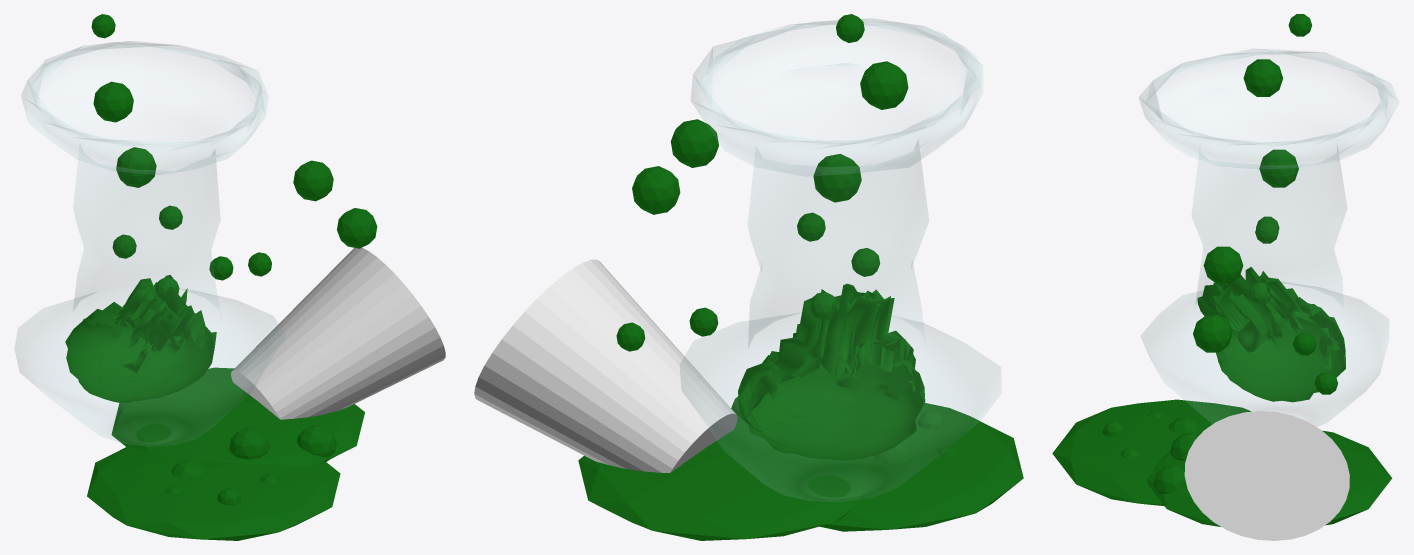
File: potiunepalariestricata.fbx
3 renders of one model, left to right at view 1: azimuth 30°, elevation 25°; view 2: azimuth 150°, elevation 25°; view 3: azimuth 270°, elevation 25°, orthographic. The views are drawn at different scales.
Visible parts, largest first — view 1: Plane.001, Cylinder.002, Icosphere.001, Icosphere, Sphere.003, Icosphere.005, Icosphere.016, Icosphere.009, Icosphere.014, Icosphere.010, Icosphere.017; view 2: Plane.001, Cylinder.002, Sphere.003, Icosphere, Icosphere.001, Icosphere.014, Icosphere.005, Icosphere.009, Icosphere.016, Icosphere.019, Icosphere.002, Icosphere.018 (+2 smaller); view 3: Plane.001, Cylinder.002, Sphere.003, Icosphere.001, Icosphere, Icosphere.005, Icosphere.016, Icosphere.014, Icosphere.009, Icosphere.017, Icosphere.010, Icosphere.008 (+3 smaller).
Boxes of the visible parts, bbox=[...] form: Plane.001: bbox=[15, 41, 285, 445]; Cylinder.002: bbox=[231, 247, 445, 419]; Icosphere.001: bbox=[87, 447, 340, 540]; Icosphere: bbox=[111, 367, 364, 466]; Sphere.003: bbox=[65, 275, 216, 402]; Icosphere.005: bbox=[116, 147, 156, 187]; Icosphere.016: bbox=[293, 160, 333, 201]; Icosphere.009: bbox=[93, 81, 133, 122]; Icosphere.014: bbox=[337, 208, 377, 248]; Icosphere.010: bbox=[229, 427, 269, 459]; Icosphere.017: bbox=[297, 424, 336, 461]; Plane.001: bbox=[680, 18, 1000, 501]; Cylinder.002: bbox=[474, 259, 737, 472]; Sphere.003: bbox=[738, 283, 925, 460]; Icosphere: bbox=[578, 415, 869, 540]; Icosphere.001: bbox=[820, 403, 1023, 531]; Icosphere.014: bbox=[632, 166, 680, 214]; Icosphere.005: bbox=[813, 154, 861, 202]; Icosphere.009: bbox=[860, 61, 908, 109]; Icosphere.016: bbox=[670, 119, 718, 167]; Icosphere.019: bbox=[689, 307, 718, 336]; Icosphere.002: bbox=[851, 248, 880, 276]; Icosphere.018: bbox=[616, 322, 645, 351]; Plane.001: bbox=[1139, 49, 1398, 426]; Cylinder.002: bbox=[1184, 411, 1349, 540]; Sphere.003: bbox=[1197, 267, 1345, 402]; Icosphere.001: bbox=[1052, 399, 1251, 505]; Icosphere: bbox=[1146, 430, 1392, 526]; Icosphere.005: bbox=[1259, 149, 1298, 187]; Icosphere.016: bbox=[1203, 246, 1243, 284]; Icosphere.014: bbox=[1193, 315, 1232, 352]; Icosphere.009: bbox=[1243, 59, 1283, 96]; Icosphere.017: bbox=[1153, 465, 1186, 494]; Icosphere.010: bbox=[1170, 433, 1198, 460]; Icosphere.008: bbox=[1288, 14, 1312, 36].
Size of the model in its own units: 662 by 725 by 516.
